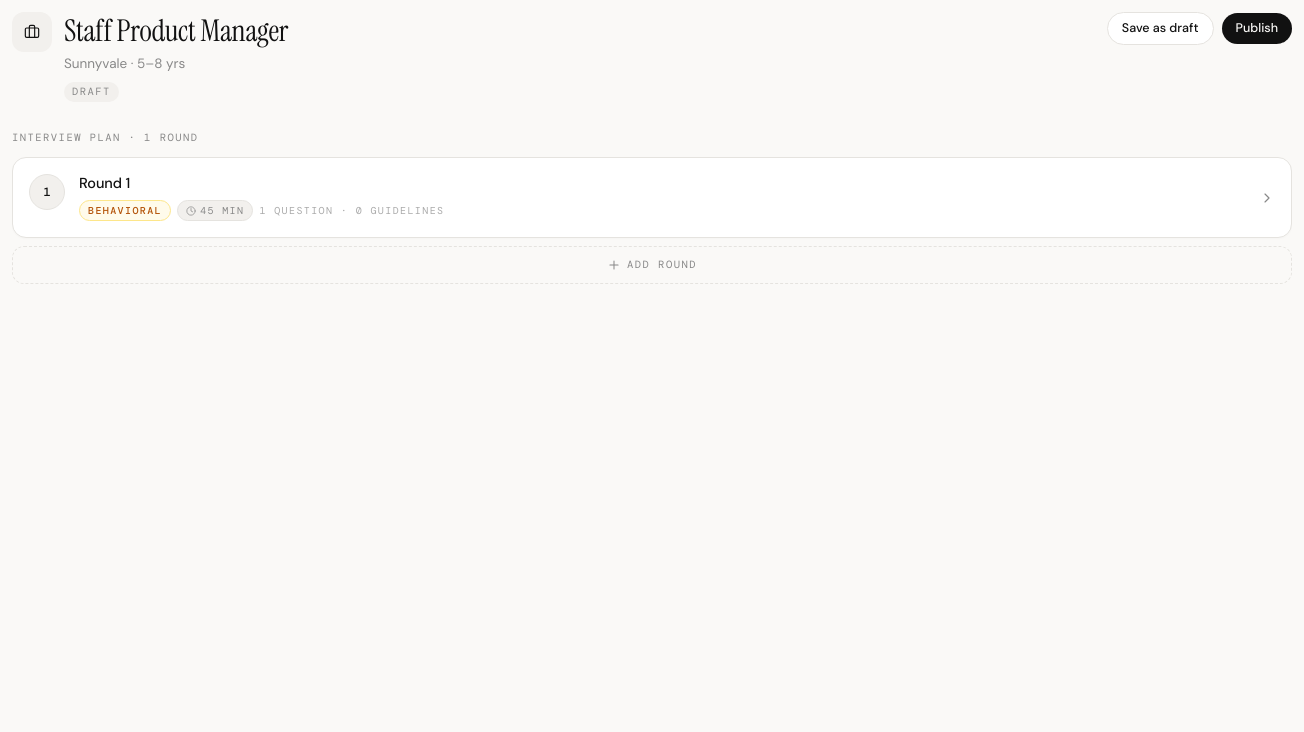
Test: RequisitionArtifact › clicking a round pushes the detail view; back pops
The image size is (1304, 732).
Click the button with id "art-rounds-row-a": (47,192) [12, 157, 1292, 238]
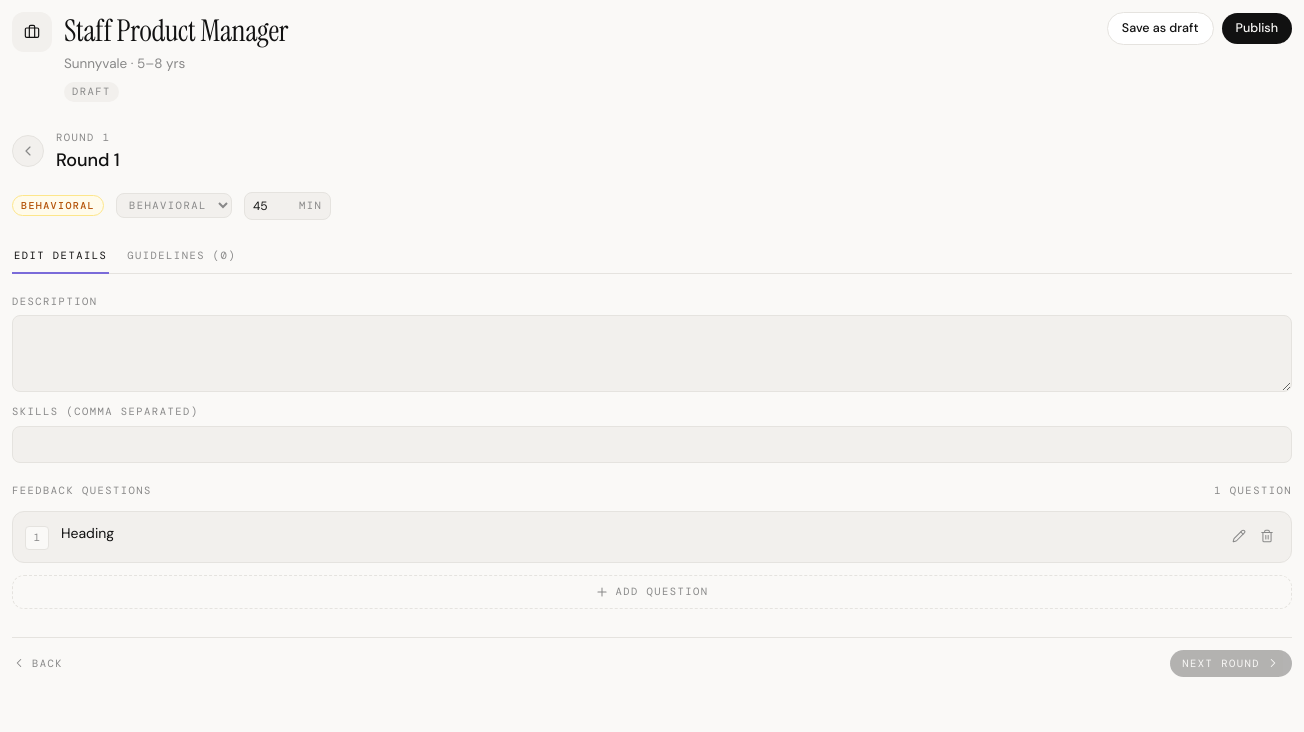
Check: the element with id "art-detail" is shown
Check: the element with id "art-rounds" is gone
Click the button with id "art-detail-back": (28,151) [12, 135, 44, 167]
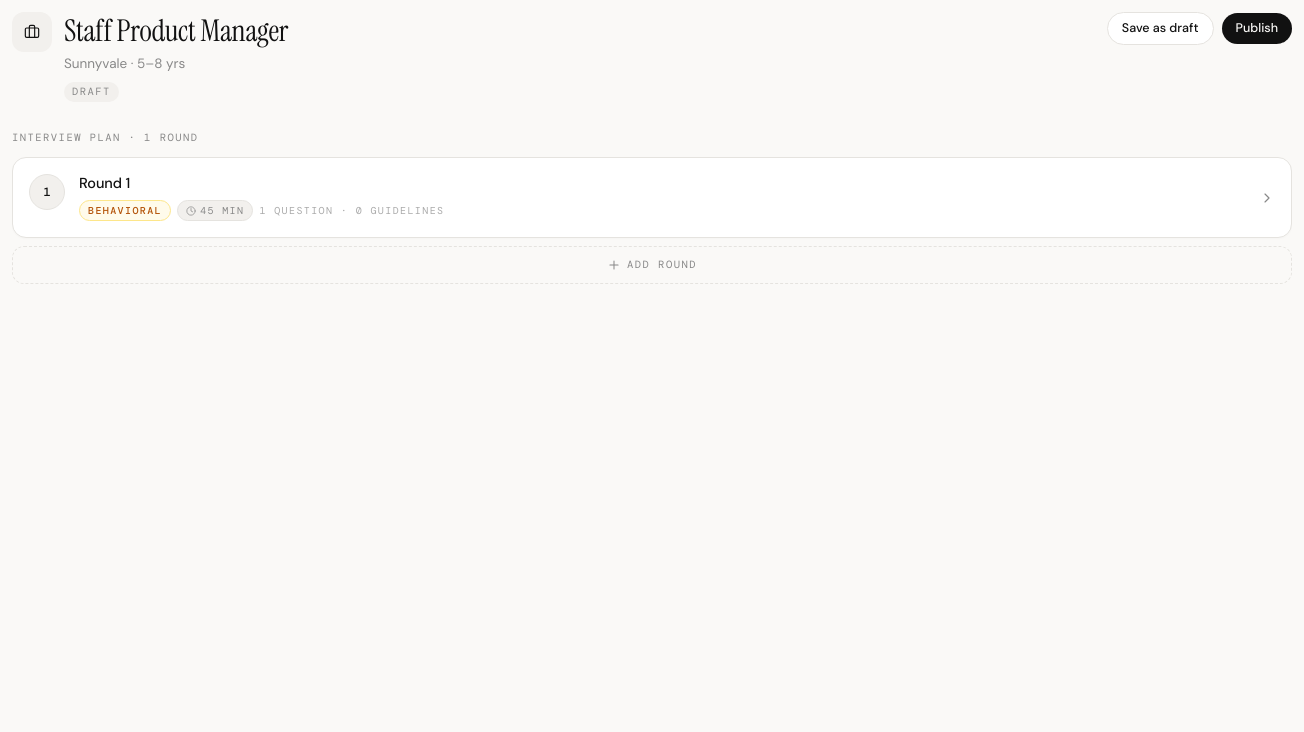
Check: the element with id "art-detail" is gone
Check: the element with id "art-rounds" is shown, box [12, 157, 1292, 284]
